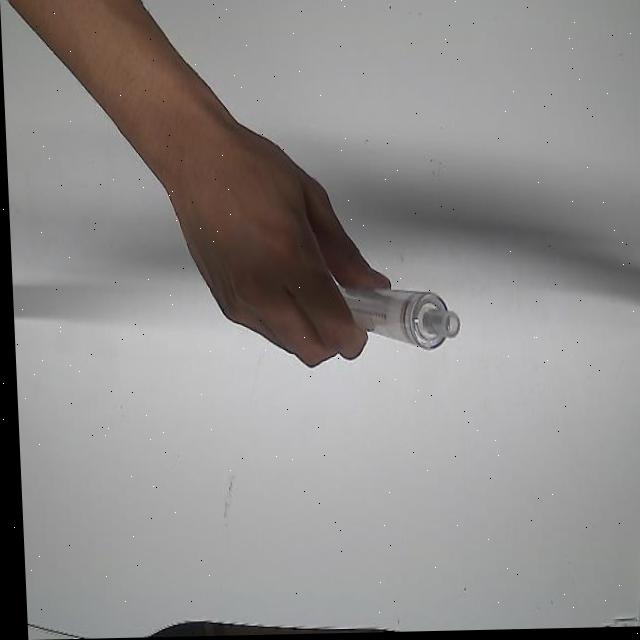Serelogical Pipet 50 mL: (315, 273, 459, 363)
